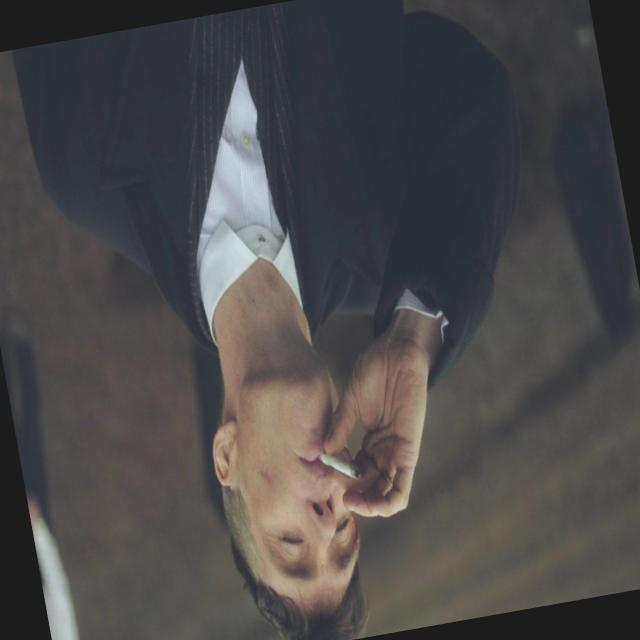smoke: (307, 432, 373, 508)
